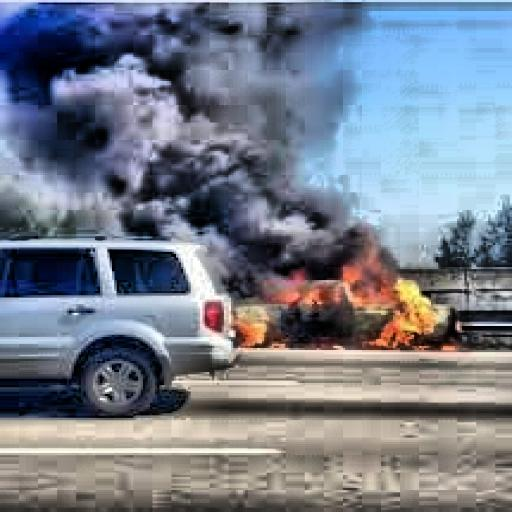fire: (234, 232, 460, 354)
